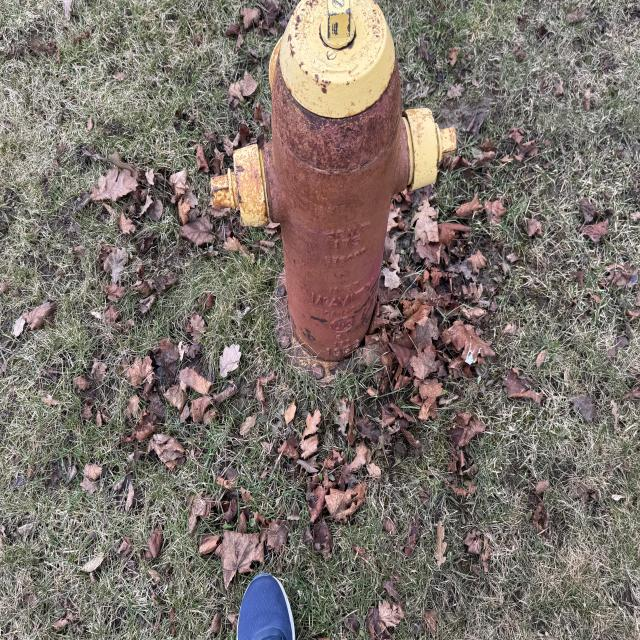Fire hydrant: (208, 1, 458, 390)
